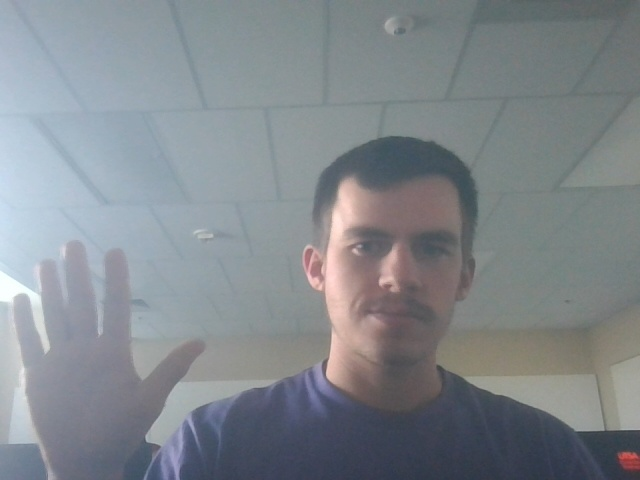hello: (11, 234, 210, 468)
